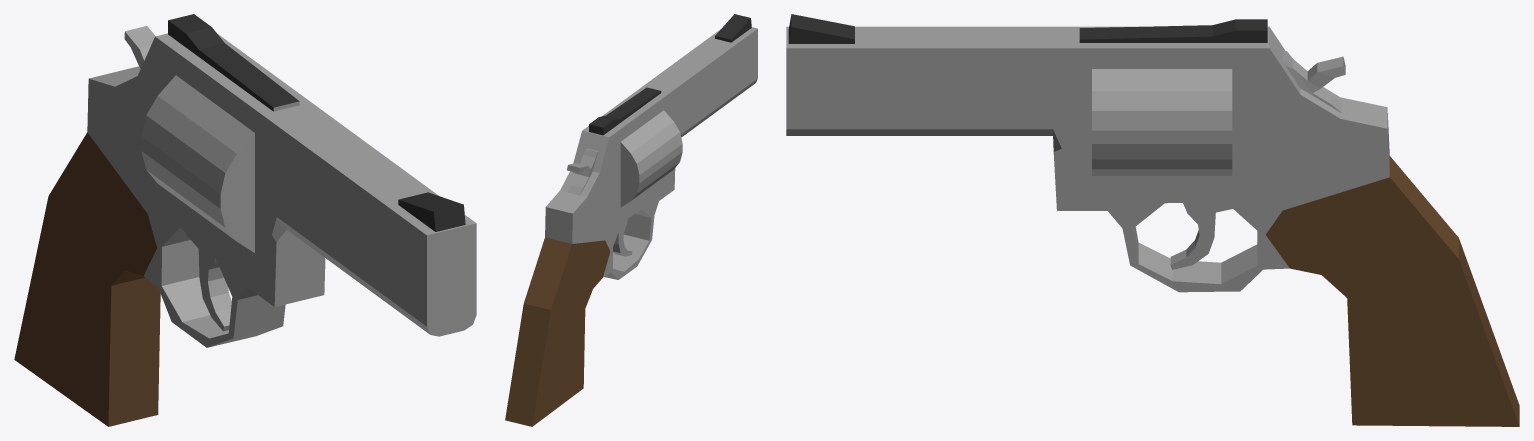
File: revolver.glb
3 views of the same model, side by side, from view 1: azimuth 30°, elevation 25°; view 2: azimuth 150°, elevation 25°; view 3: azimuth 270°, elevation 25° (orthographic). The views are drawn at different scales.
Visible parts, largest first — view 1: revolver; view 2: revolver; view 3: revolver.
Boxes of the visible parts, <box> form: revolver: <box>14,14,476,426</box>; revolver: <box>505,14,757,426</box>; revolver: <box>786,14,1519,426</box>.
Bounding box in the file's own units: 0.1607 × 0.5771 × 0.9692.
